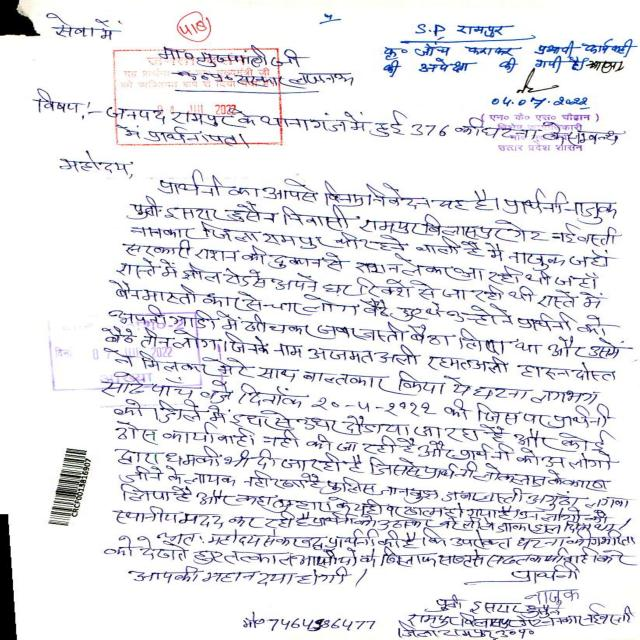antritgovtstamp: (114, 47, 281, 146), (48, 309, 201, 393)
barcode: (46, 442, 94, 540)
signature: (485, 66, 604, 156)
